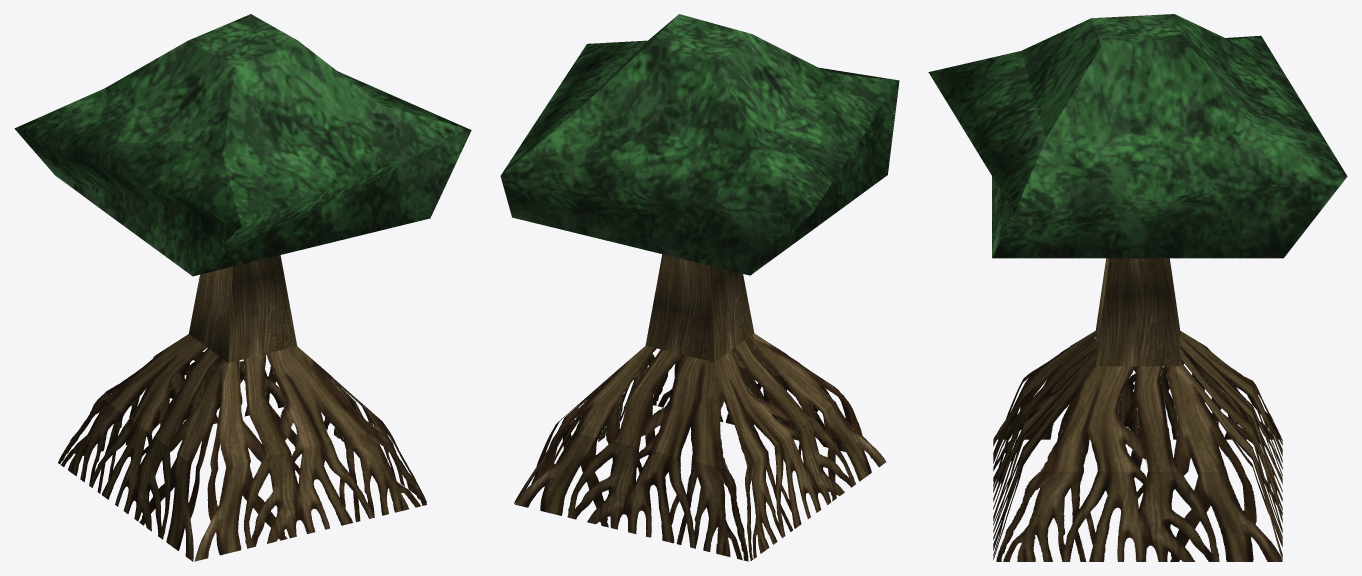
The model's file is mangrovetexfbxWIP.fbx.
3 renders of one model, left to right at view 1: azimuth 30°, elevation 25°; view 2: azimuth 150°, elevation 25°; view 3: azimuth 270°, elevation 25°, orthographic. The views are drawn at different scales.
Parts seen in each view (by area): view 1: pCube1; view 2: pCube1; view 3: pCube1.
Part boxes in pixels (left/top/right/bottom): pCube1: left=14, top=14, right=471, bottom=561; pCube1: left=500, top=14, right=899, bottom=561; pCube1: left=928, top=14, right=1347, bottom=561.
Bounding box in the file's own units: 6.43 × 8.02 × 6.43.
Materials: 1 (1 with a texture image).
